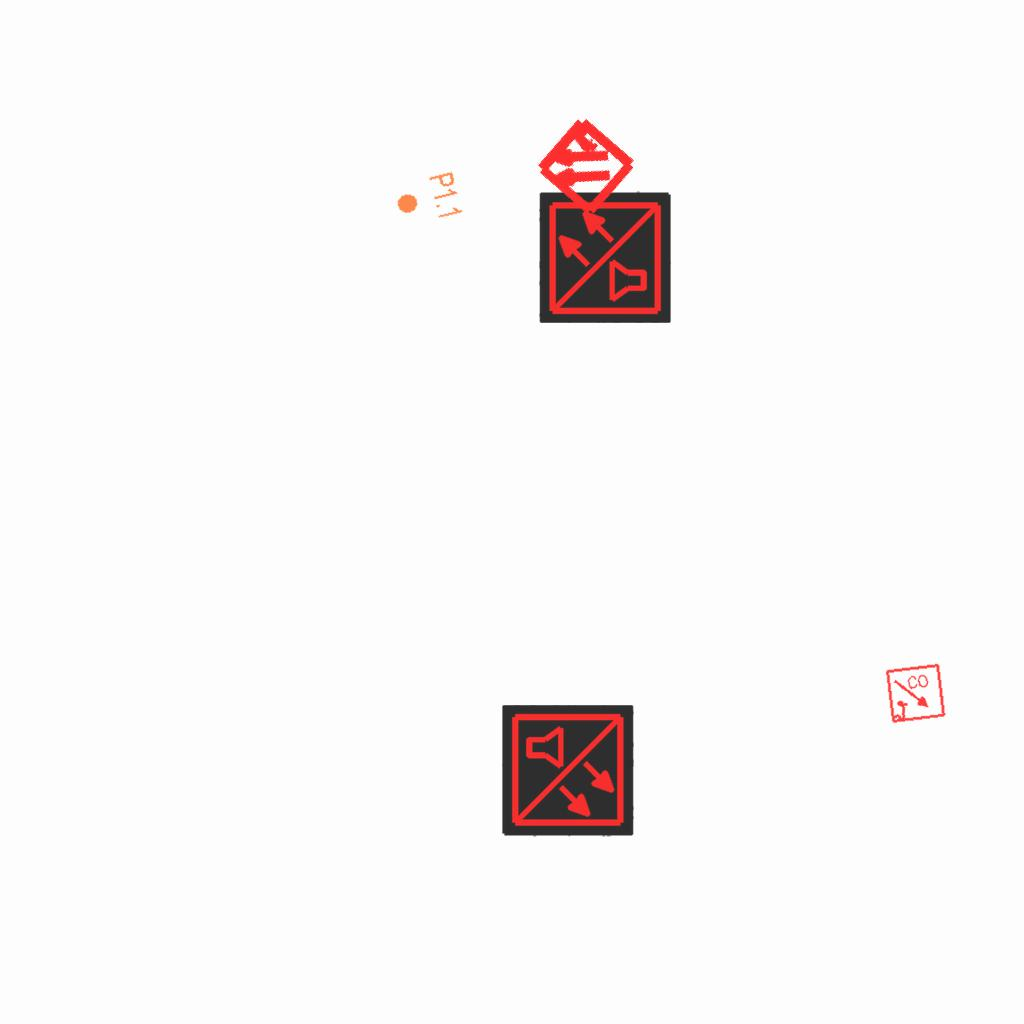Downlight_LED_Einbauleuchten_Flur: (391, 169, 465, 231)
OKW_Multisensormelder_(Kombination_optischer_Rauch-Kahlenmonoxid_Waerme-Melder): (539, 191, 671, 323), (502, 705, 634, 837)
OT_Multisensormelder_(Kombination_RMO_WMD): (504, 84, 665, 245)
ROA_Rauchmelder_optisch_mit_Signalgeber_(Sockelsirene): (884, 662, 948, 726)
